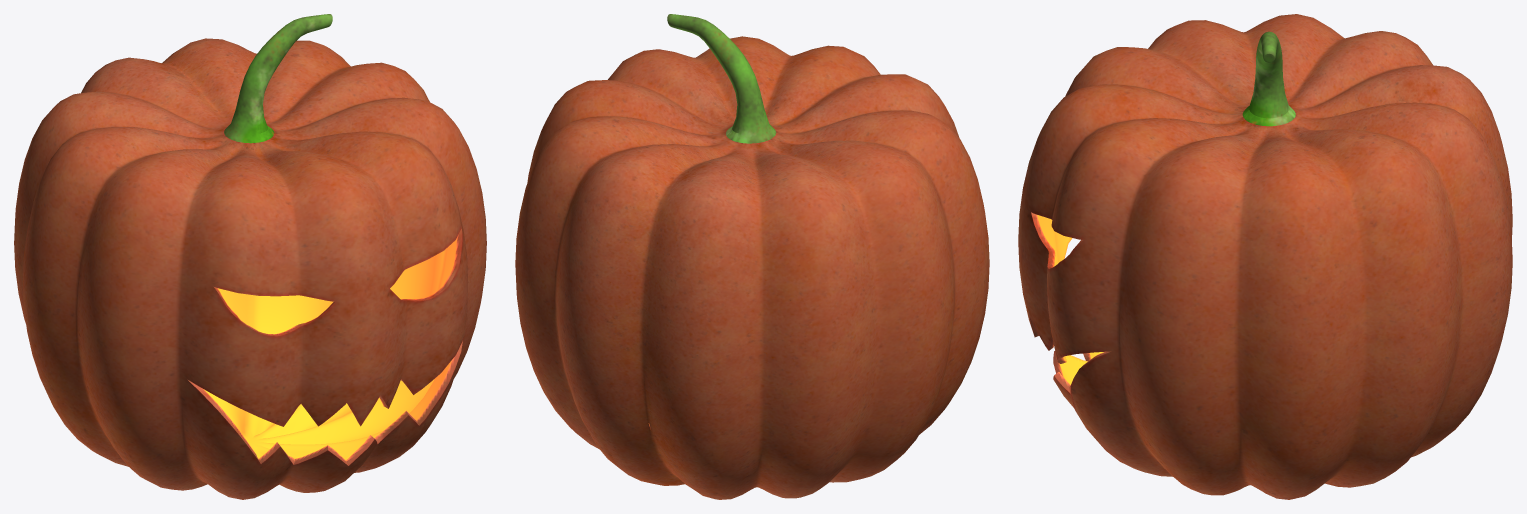
3 renders of one model, left to right at view 1: azimuth 30°, elevation 25°; view 2: azimuth 150°, elevation 25°; view 3: azimuth 270°, elevation 25°, orthographic. The views are drawn at different scales.
Visible parts, largest first — view 1: Sphere; view 2: Sphere; view 3: Sphere.
Boxes of the visible parts, bbox=[...] form: Sphere: bbox=[14, 14, 486, 499]; Sphere: bbox=[515, 14, 989, 499]; Sphere: bbox=[1018, 14, 1512, 499].
Size of the model in its own units: 2.32 by 2.3 by 2.31.
Materials: 2 (2 with a texture image).
